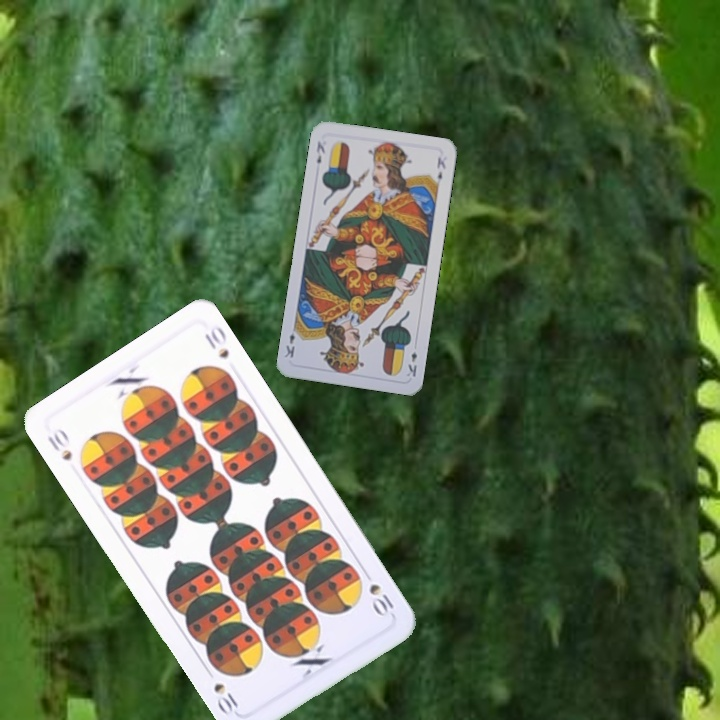EK: (402, 347, 419, 379), (312, 137, 328, 166)
S10: (365, 579, 397, 620), (43, 424, 75, 464)
